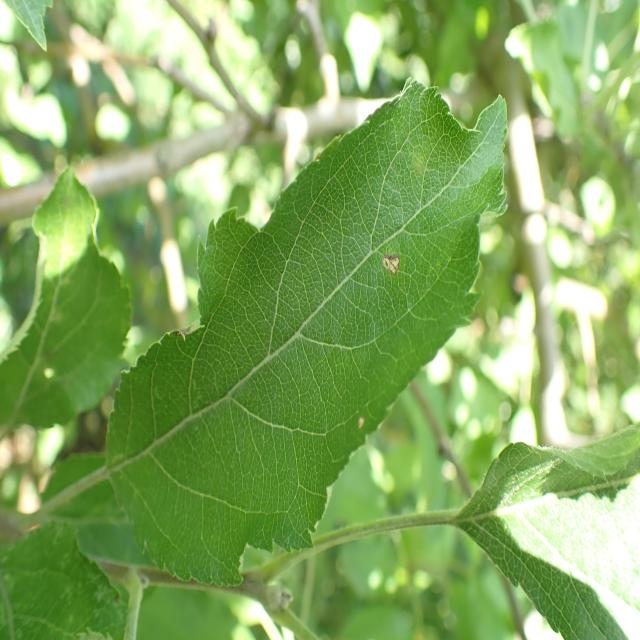Black Rot: (361, 242, 424, 299)
